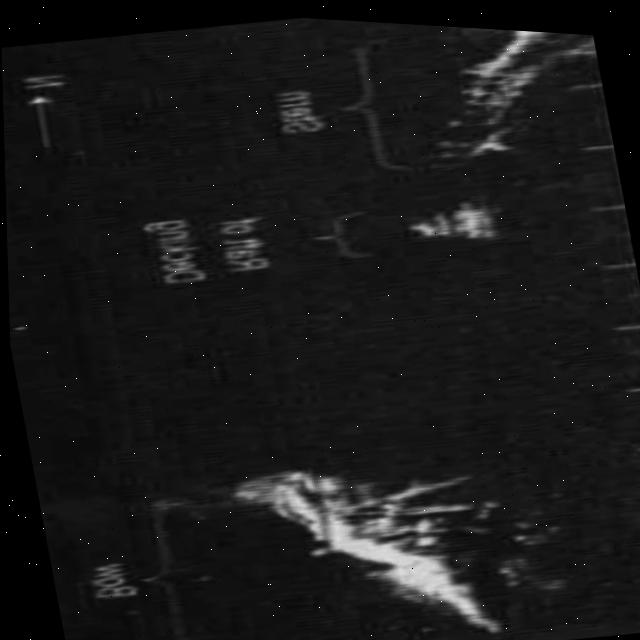shipwreck: (207, 424, 545, 640), (389, 18, 614, 170)
